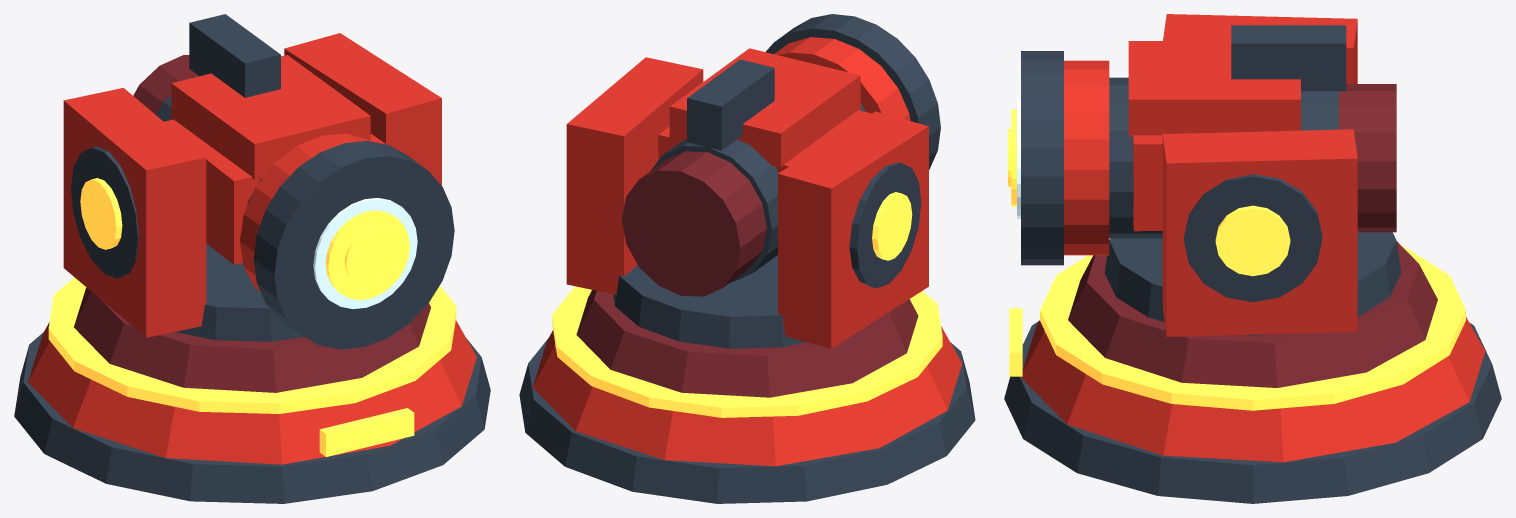
The model's file is laser_cannon_red.glb.
The picture shows the model from 3 angles, left to right: view 1: azimuth 30°, elevation 25°; view 2: azimuth 150°, elevation 25°; view 3: azimuth 270°, elevation 25°; orthographic projection. The views are drawn at different scales.
Visible parts, largest first — view 1: laser_cannon_red_Emitter_Rim, laser_cannon_red_Yoke_Left, laser_cannon_red_Base_Lower, laser_cannon_red_Base_Armor, laser_cannon_red_Base_Deck, laser_cannon_red_Base_Light_Ring, laser_cannon_red_Barrel_Armor_Top, laser_cannon_red_Yoke_Right, laser_cannon_red_Yaw_Bearing, laser_cannon_red_Top_Sight, laser_cannon_red_Barrel_Armor_Left, laser_cannon_red_Left_Pivot_Rim (+7 smaller); view 2: laser_cannon_red_Yoke_Left, laser_cannon_red_Base_Armor, laser_cannon_red_Base_Lower, laser_cannon_red_Base_Deck, laser_cannon_red_Yoke_Right, laser_cannon_red_Rear_Power_Cell, laser_cannon_red_Base_Light_Ring, laser_cannon_red_Yaw_Bearing, laser_cannon_red_Barrel_Armor_Top, laser_cannon_red_Emitter_Rim, laser_cannon_red_Top_Sight, laser_cannon_red_Left_Pivot_Rim (+4 smaller); view 3: laser_cannon_red_Yoke_Right, laser_cannon_red_Base_Armor, laser_cannon_red_Base_Lower, laser_cannon_red_Base_Deck, laser_cannon_red_Base_Light_Ring, laser_cannon_red_Barrel_Armor_Top, laser_cannon_red_Right_Pivot_Rim, laser_cannon_red_Emitter_Rim, laser_cannon_red_Focus_Collar, laser_cannon_red_Yaw_Bearing, laser_cannon_red_Top_Sight, laser_cannon_red_Rear_Power_Cell (+6 smaller).
Boxes of the visible parts, bbox=[...] form: laser_cannon_red_Emitter_Rim: bbox=[253, 141, 454, 349]; laser_cannon_red_Yoke_Left: bbox=[63, 88, 206, 337]; laser_cannon_red_Base_Lower: bbox=[14, 332, 490, 503]; laser_cannon_red_Base_Armor: bbox=[28, 320, 476, 464]; laser_cannon_red_Base_Deck: bbox=[74, 287, 430, 392]; laser_cannon_red_Base_Light_Ring: bbox=[48, 277, 456, 413]; laser_cannon_red_Barrel_Armor_Top: bbox=[171, 55, 370, 179]; laser_cannon_red_Yoke_Right: bbox=[284, 33, 441, 185]; laser_cannon_red_Yaw_Bearing: bbox=[175, 243, 303, 341]; laser_cannon_red_Top_Sight: bbox=[189, 14, 280, 97]; laser_cannon_red_Barrel_Armor_Left: bbox=[164, 119, 260, 264]; laser_cannon_red_Left_Pivot_Rim: bbox=[71, 146, 138, 278]; laser_cannon_red_Yoke_Left: bbox=[778, 111, 928, 348]; laser_cannon_red_Base_Armor: bbox=[532, 326, 962, 466]; laser_cannon_red_Base_Lower: bbox=[519, 338, 975, 503]; laser_cannon_red_Base_Deck: bbox=[576, 290, 918, 397]; laser_cannon_red_Yoke_Right: bbox=[566, 57, 703, 294]; laser_cannon_red_Rear_Power_Cell: bbox=[621, 151, 766, 296]; laser_cannon_red_Base_Light_Ring: bbox=[552, 286, 942, 417]; laser_cannon_red_Yaw_Bearing: bbox=[613, 255, 806, 348]; laser_cannon_red_Barrel_Armor_Top: bbox=[669, 48, 860, 167]; laser_cannon_red_Emitter_Rim: bbox=[765, 14, 940, 169]; laser_cannon_red_Top_Sight: bbox=[687, 59, 774, 150]; laser_cannon_red_Left_Pivot_Rim: bbox=[849, 162, 921, 288]; laser_cannon_red_Yoke_Right: bbox=[1162, 129, 1357, 336]; laser_cannon_red_Base_Armor: bbox=[1021, 317, 1485, 462]; laser_cannon_red_Base_Lower: bbox=[1004, 321, 1501, 503]; laser_cannon_red_Base_Deck: bbox=[1068, 241, 1437, 387]; laser_cannon_red_Base_Light_Ring: bbox=[1040, 245, 1465, 410]; laser_cannon_red_Barrel_Armor_Top: bbox=[1128, 41, 1300, 136]; laser_cannon_red_Right_Pivot_Rim: bbox=[1183, 174, 1322, 302]; laser_cannon_red_Emitter_Rim: bbox=[1021, 51, 1063, 265]; laser_cannon_red_Focus_Collar: bbox=[1064, 60, 1109, 255]; laser_cannon_red_Yaw_Bearing: bbox=[1104, 232, 1401, 335]; laser_cannon_red_Top_Sight: bbox=[1231, 25, 1346, 91]; laser_cannon_red_Rear_Power_Cell: bbox=[1339, 84, 1396, 232].
Size of the model in its own units: 1.04 by 0.84 by 1.04.
